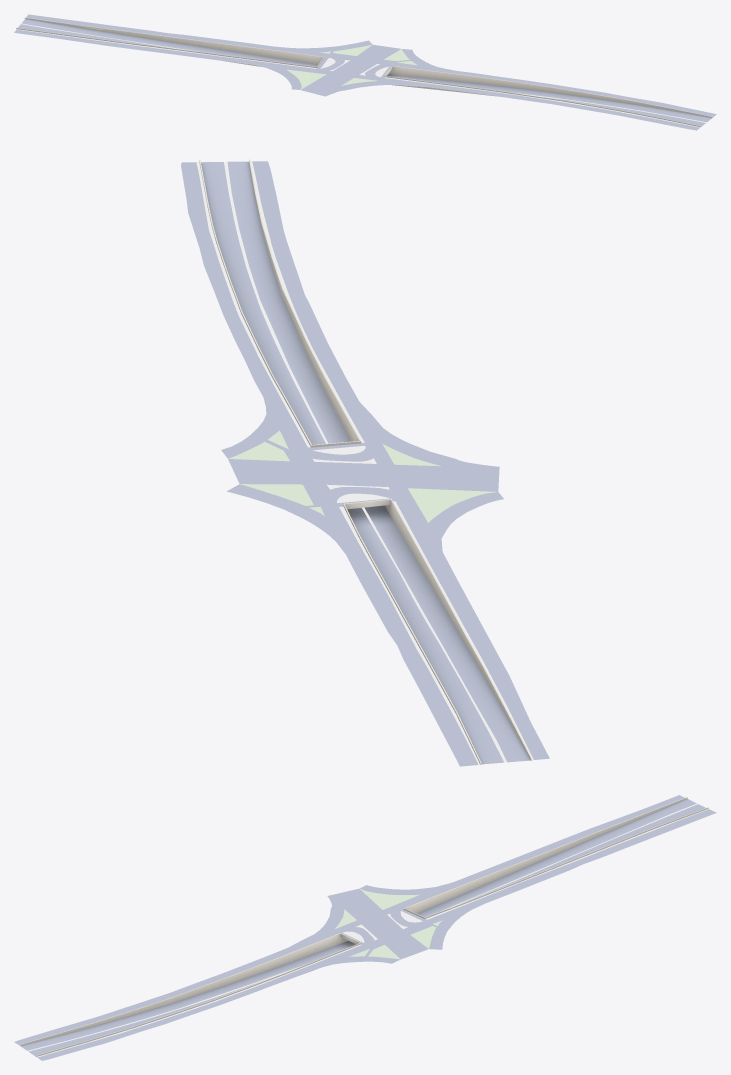
Rendered from Saina-Zhandosova.glb.
The picture shows the model from 3 angles, top to bottom: view 1: azimuth 30°, elevation 25°; view 2: azimuth 150°, elevation 25°; view 3: azimuth 270°, elevation 25°; orthographic projection. The views are drawn at different scales.
Parts seen in each view (by area): view 1: group_1, group_0, group_3.008, group_4.003; view 2: group_1, group_3.008, group_0, group_4.003; view 3: group_1, group_0, group_3.008, group_4.003.
Part boxes in pixels (x1,y1,x2,y2): group_1: (14, 14, 716, 130); group_0: (16, 17, 712, 127); group_3.008: (16, 23, 706, 127); group_4.003: (286, 45, 416, 89); group_1: (181, 161, 549, 766); group_3.008: (196, 161, 533, 765); group_0: (199, 159, 532, 764); group_4.003: (228, 430, 496, 522); group_1: (14, 795, 716, 1060); group_0: (19, 797, 708, 1056); group_3.008: (27, 803, 708, 1057); group_4.003: (335, 889, 442, 959).
Size of the model in its own units: 435 by 8 by 486.
4 materials, 2 textured.
